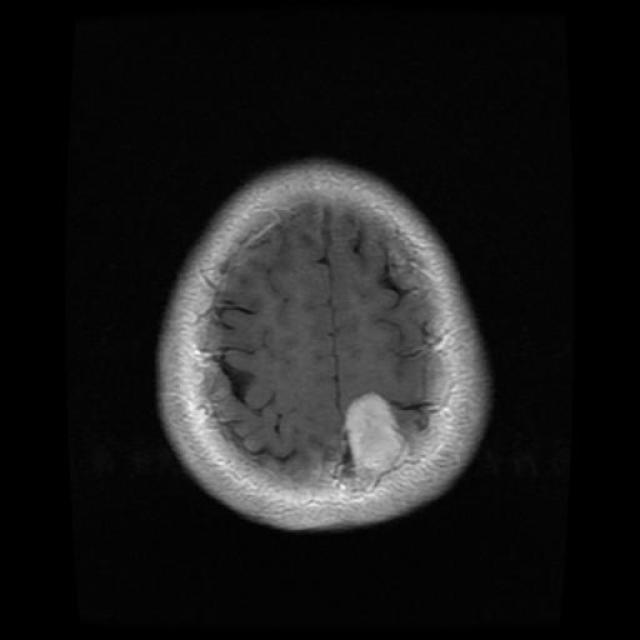Meningioma: (345, 393, 404, 478)
